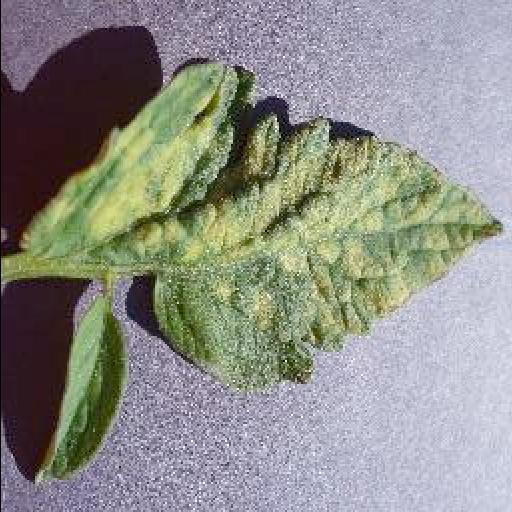disease_tomato: (23, 59, 505, 387)
